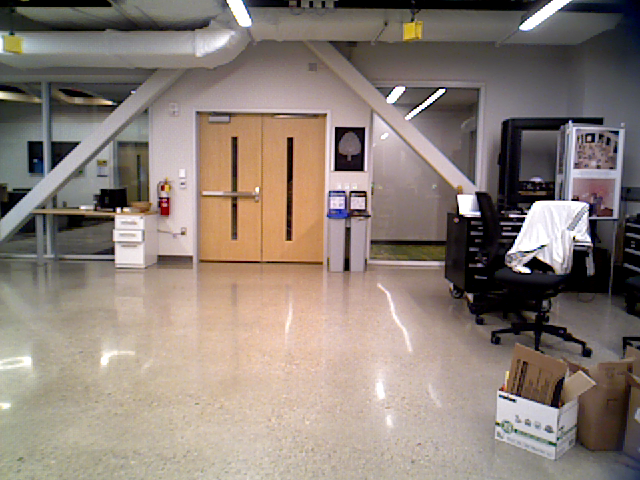painting1: (329, 125, 368, 173)
